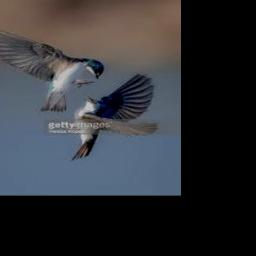Swallow: (0, 22, 104, 112), (72, 74, 157, 159)
